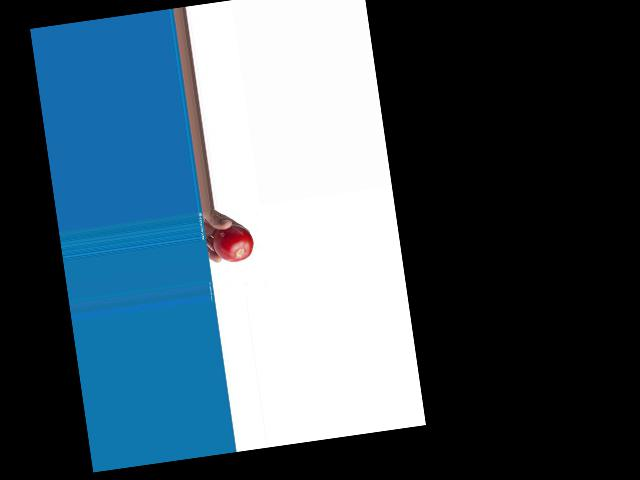tomato: (210, 222, 255, 264)
